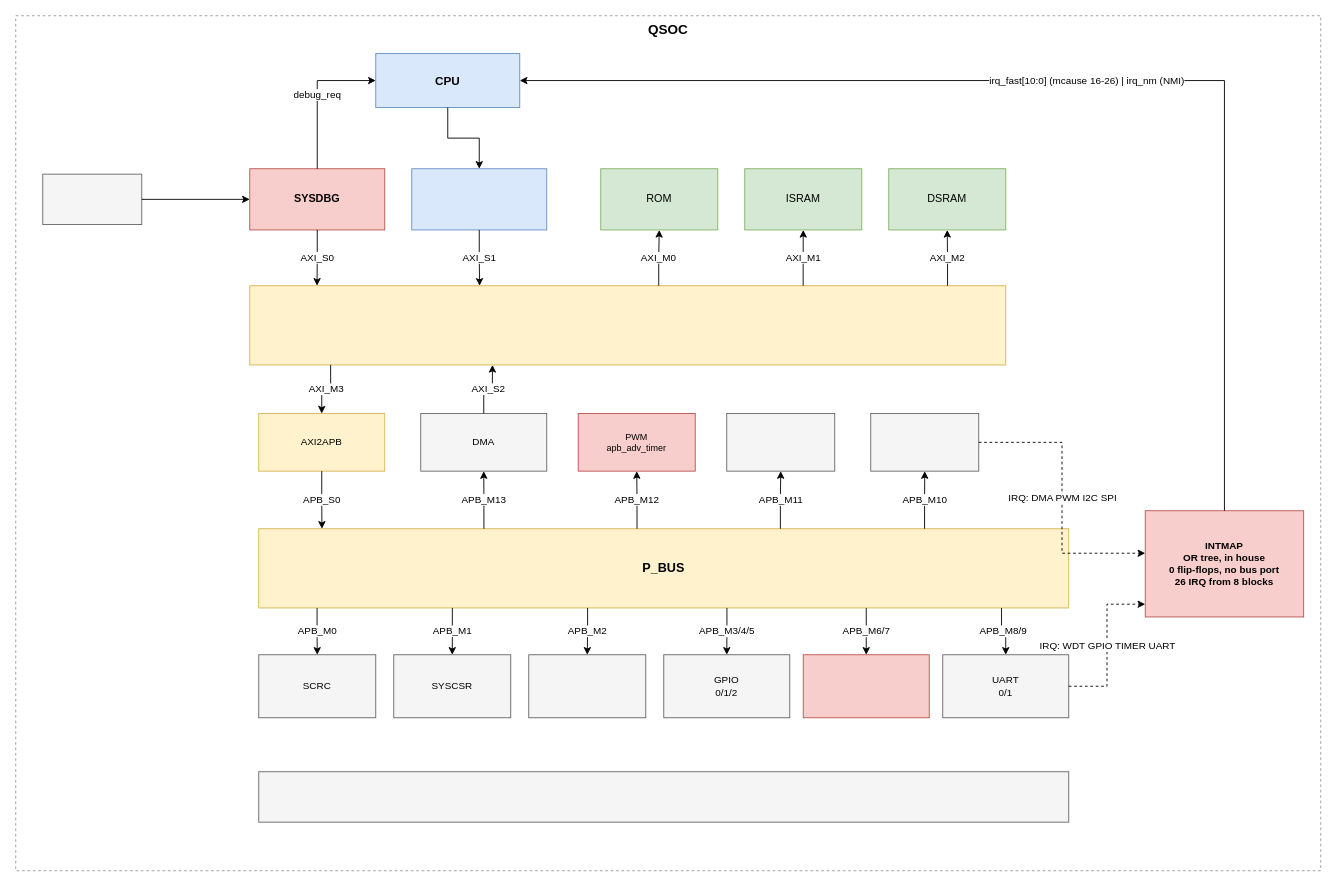
The diagram is 1337 pixels wide and 887 high, and some of its shapes have lost their labels. Here are the shapes that lost their labels. From the top down, the box of each, then its label:
(42, 173, 142, 225): JTAG
(411, 168, 547, 230): CPU2AXI
(249, 285, 1006, 365): S_BUS
(726, 413, 835, 471): I2C
(870, 413, 979, 471): SPI
(528, 654, 646, 718): WDT
(802, 654, 929, 718): TIMER 0/1 apb_timer_unit
(258, 771, 1069, 822): IO MUX
